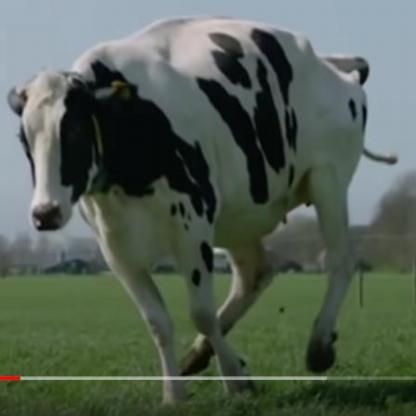cow: (8, 17, 370, 405)
